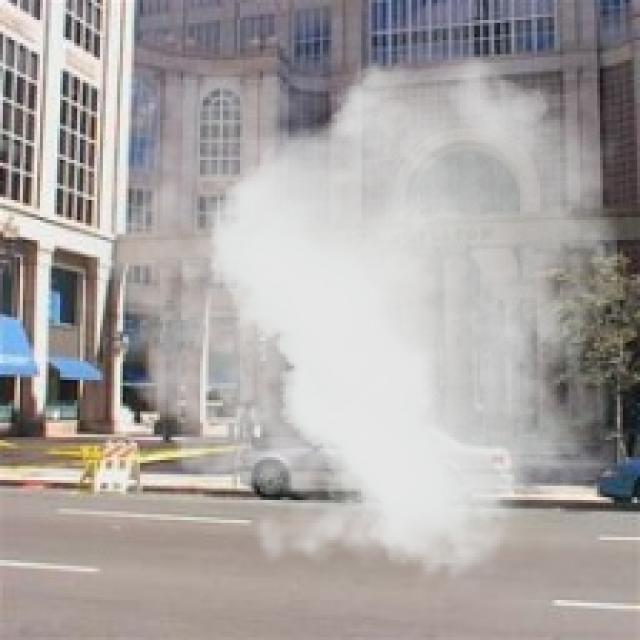smoke: (66, 54, 617, 597)
